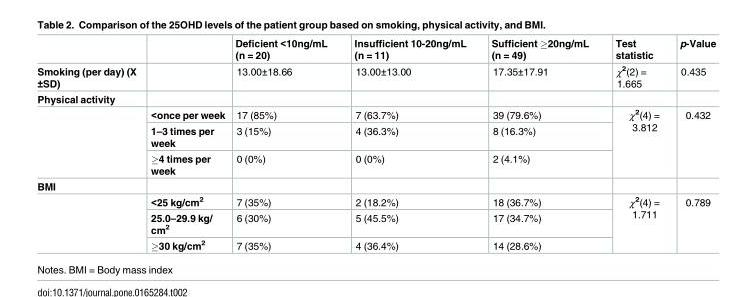table: (36, 37, 715, 258)
table column: (340, 37, 478, 258), (478, 37, 601, 258), (229, 37, 340, 258), (36, 37, 142, 258), (142, 37, 229, 258), (601, 37, 668, 258), (668, 37, 715, 258)
table column header: (36, 37, 715, 62)
table projected row header: (36, 91, 715, 106), (36, 178, 715, 193)
table row: (36, 62, 715, 91), (36, 123, 715, 151), (36, 151, 715, 178), (36, 210, 715, 237), (36, 37, 715, 62), (36, 237, 715, 258), (36, 106, 715, 123), (36, 193, 715, 210), (36, 91, 715, 106), (36, 178, 715, 193)
table spanning cell: (601, 106, 668, 178), (601, 193, 668, 258), (668, 106, 715, 178), (668, 193, 715, 258)
